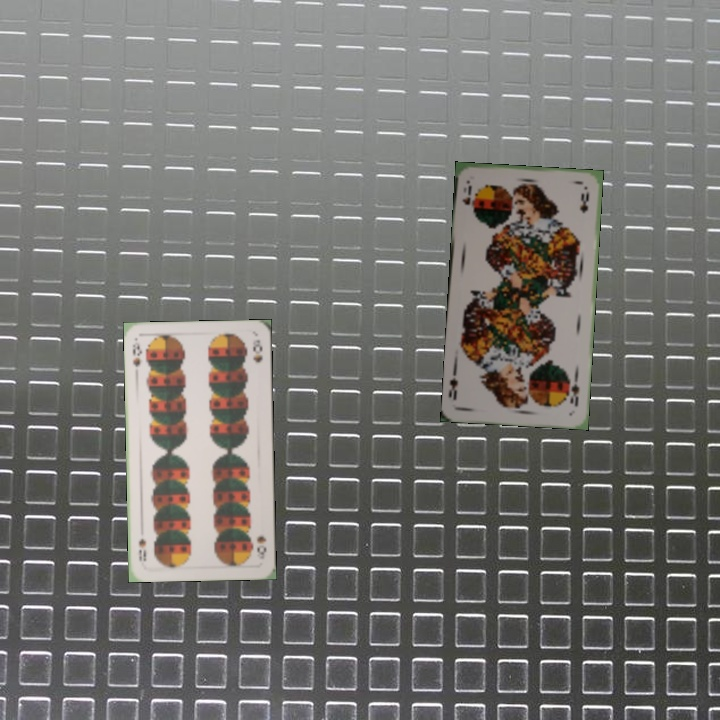S8: (129, 338, 144, 369), (253, 532, 269, 557)
SO: (459, 181, 476, 217), (566, 372, 582, 409)
